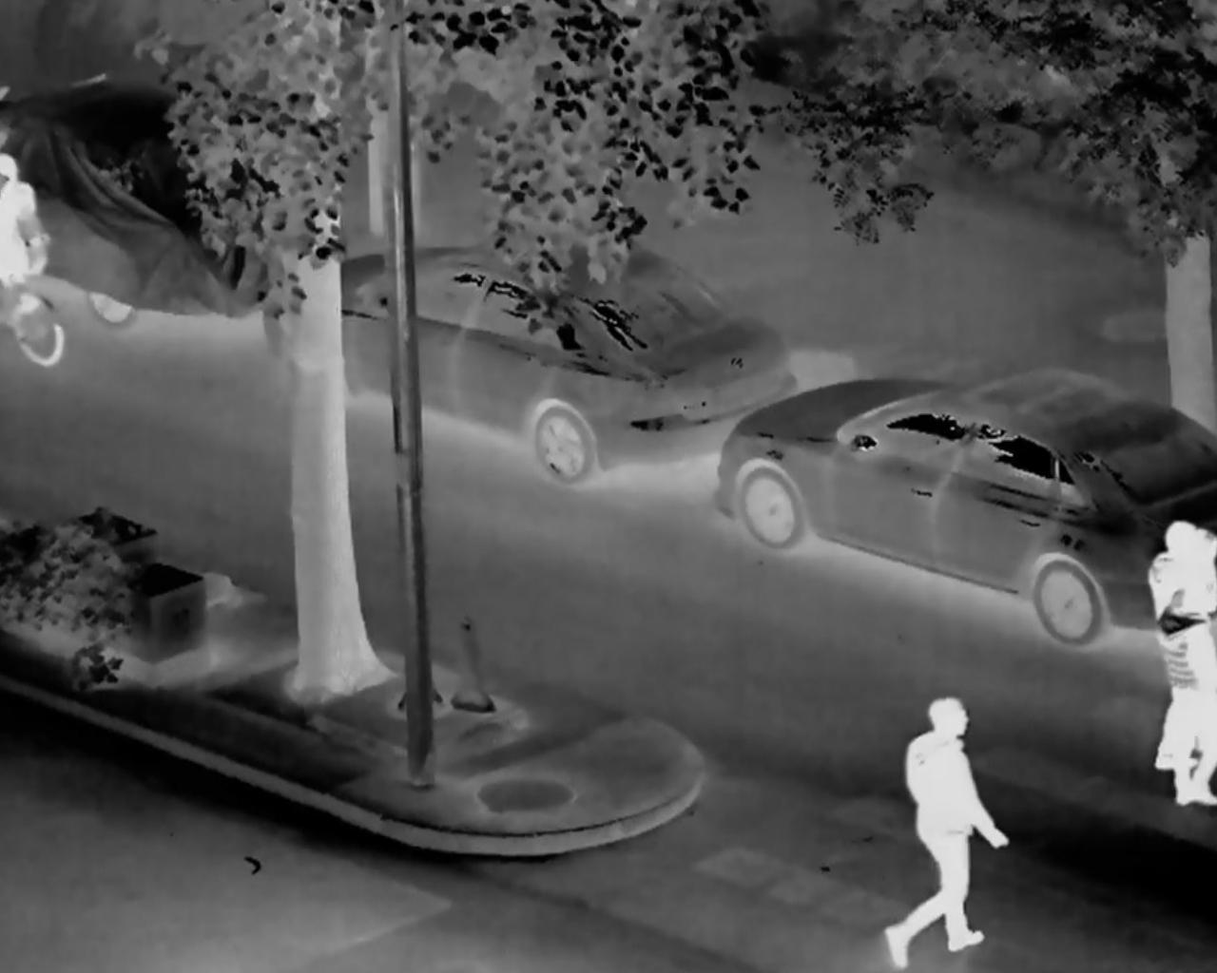person: (885, 683, 1015, 959), (1155, 508, 1217, 823), (2, 142, 51, 320)
